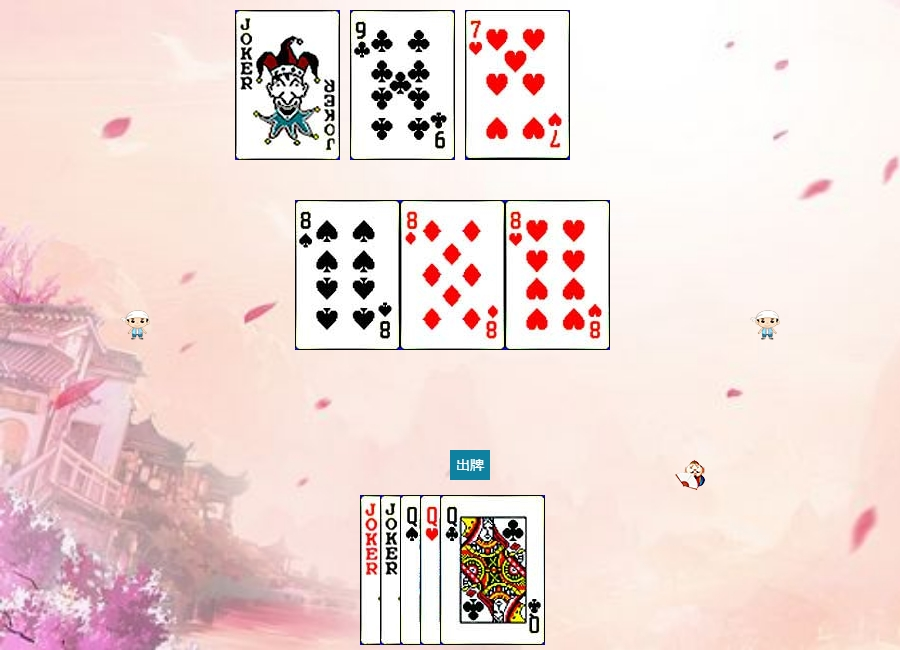12~2: (440, 495, 545, 645)
12~3: (420, 495, 525, 645)
12~4: (400, 495, 505, 645)
17~3: (235, 10, 340, 160), (380, 495, 485, 645)
18~4: (360, 495, 465, 645)
7~3: (465, 10, 570, 160)
8~1: (400, 200, 505, 350)
8~3: (505, 200, 610, 350)
8~4: (295, 200, 400, 350)
9~2: (350, 10, 455, 160)
